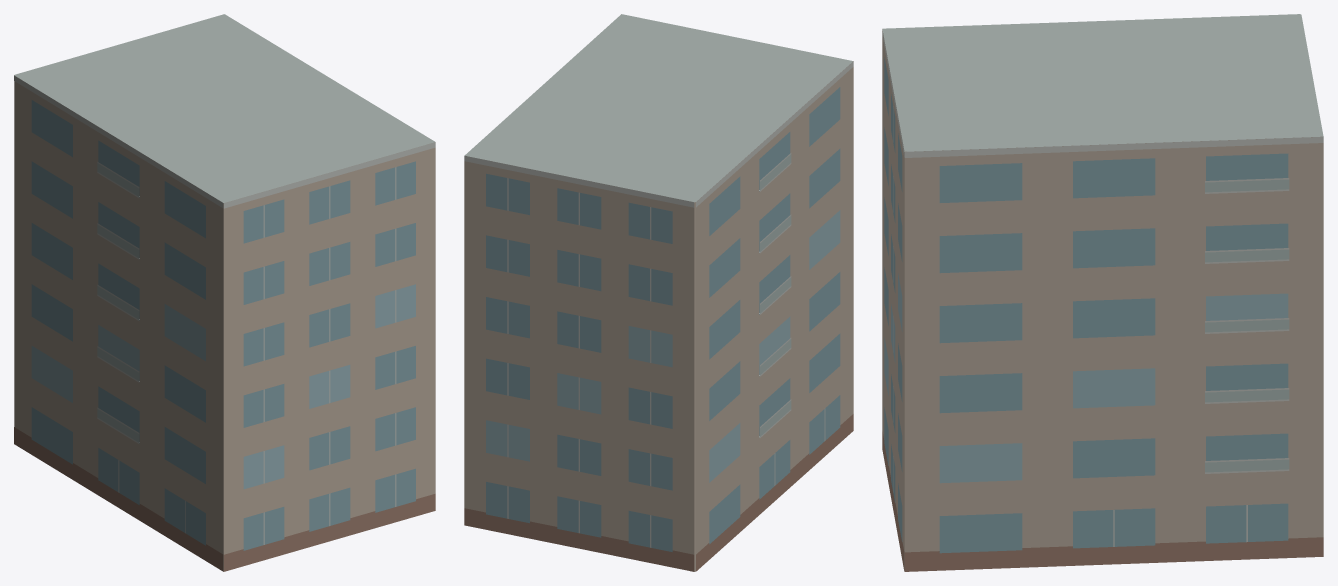
File: survey-upis-32611184.glb
3 views of the same model, side by side, from view 1: azimuth 30°, elevation 25°; view 2: azimuth 150°, elevation 25°; view 3: azimuth 270°, elevation 25° (orthographic). The views are drawn at different scales.
Visible parts, largest first — view 1: survey-upis-32611184.tmp; view 2: survey-upis-32611184.tmp; view 3: survey-upis-32611184.tmp.
Part boxes in pixels (x1=…): survey-upis-32611184.tmp: x1=14, y1=14, x2=435, y2=571; survey-upis-32611184.tmp: x1=464, y1=14, x2=853, y2=571; survey-upis-32611184.tmp: x1=882, y1=14, x2=1323, y2=571.
Bounding box in the file's own units: 11.48 × 16.3 × 15.53.
